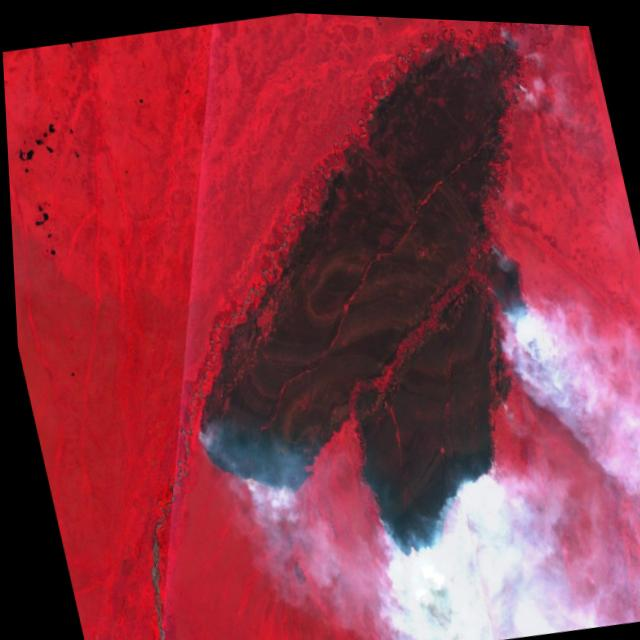fire: (346, 431, 524, 572), (177, 393, 301, 517), (482, 272, 541, 343)
